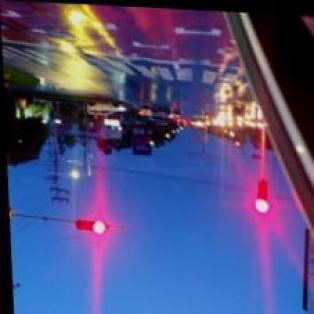Semoforo Rojo: (253, 177, 268, 212), (73, 220, 104, 231)
